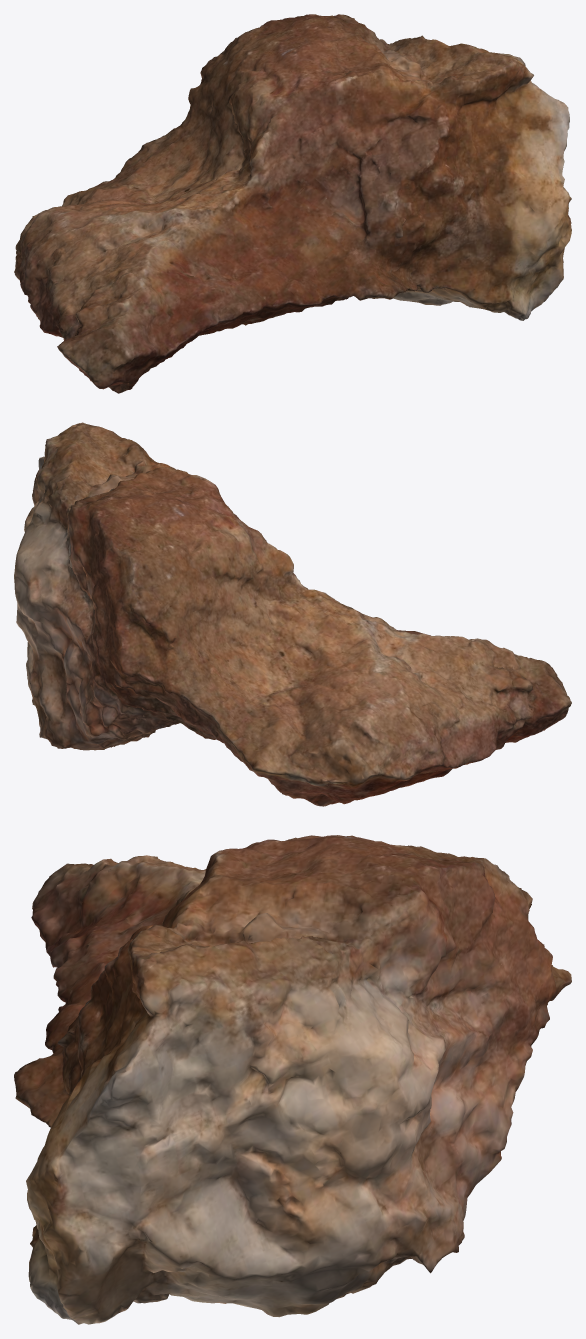
File: stone_01.glb
3 renders of one model, top to bottom at view 1: azimuth 30°, elevation 25°; view 2: azimuth 150°, elevation 25°; view 3: azimuth 270°, elevation 25°, orthographic. The views are drawn at different scales.
Parts seen in each view (by area): view 1: stone_01; view 2: stone_01; view 3: stone_01.
Boxes of the visible parts, x1,y1,x2,y2 form: stone_01: [14, 14, 571, 393]; stone_01: [14, 422, 571, 806]; stone_01: [14, 835, 571, 1324].
Size of the model in its own units: 0.1469 by 0.0718 by 0.0891.
1 material, 1 textured.
